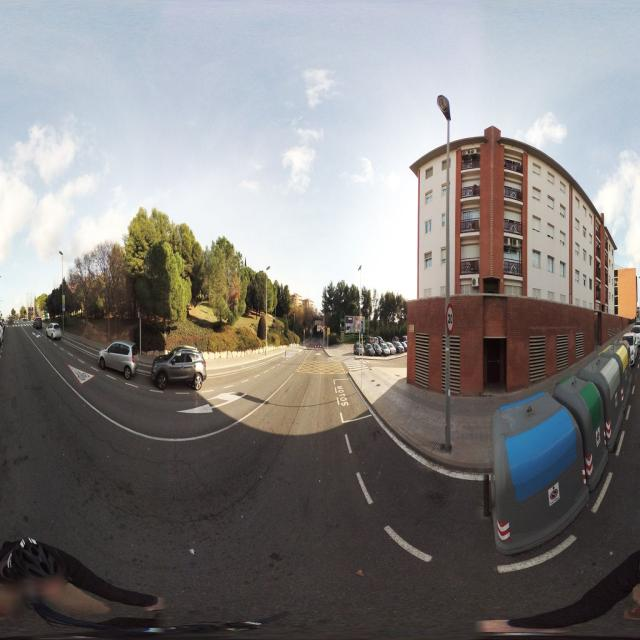car: (150, 345, 207, 390), (97, 339, 137, 378), (622, 331, 638, 367), (46, 321, 62, 341), (353, 342, 367, 356), (372, 339, 384, 355), (383, 341, 396, 355), (32, 316, 43, 332)
